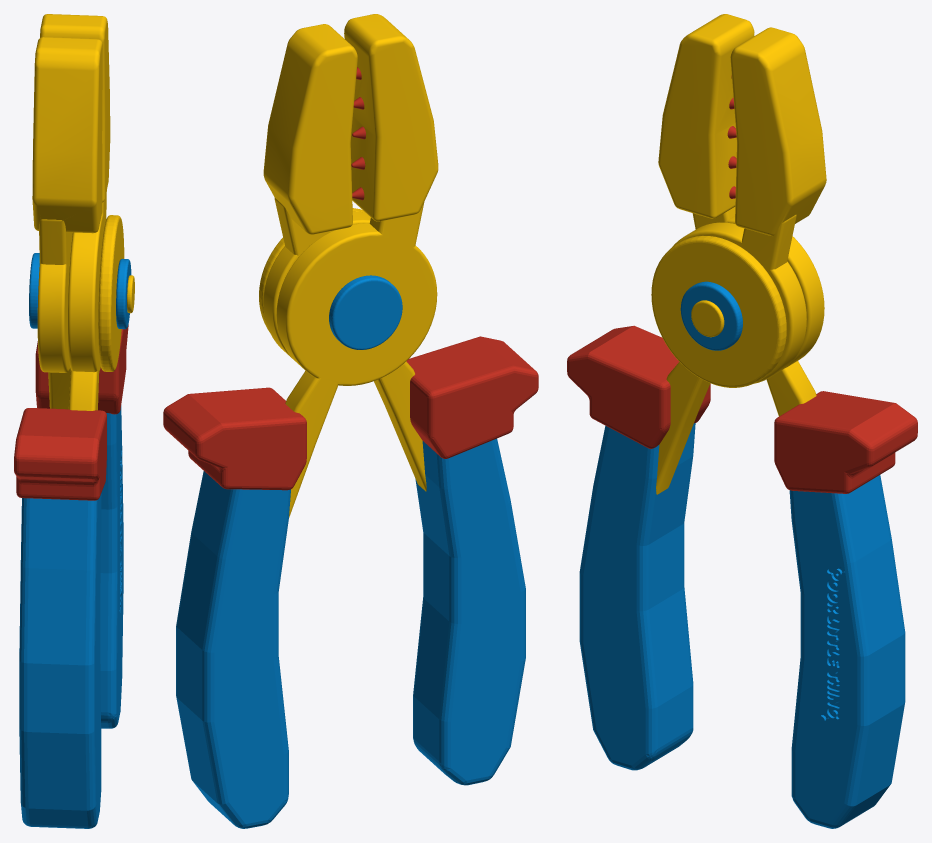
File: toy-pliers.glb
3 views of the same model, side by side, from view 1: azimuth 30°, elevation 25°; view 2: azimuth 150°, elevation 25°; view 3: azimuth 270°, elevation 25° (orthographic). The views are drawn at different scales.
Parts seen in each view (by area): view 1: display-part-006, display-part-001, display-part-004, display-part-005, display-part-003, display-part-009, display-part-002, display-part-010, display-part-008, display-part-011; view 2: display-part-001, display-part-003, display-part-006, display-part-004, display-part-002, display-part-005, display-part-008; view 3: display-part-003, display-part-006, display-part-004, display-part-001, display-part-009, display-part-002, display-part-005, display-part-010, display-part-011.
Part boxes in pixels (x1,y1,x2,y2): display-part-006: (19, 493, 101, 828); display-part-001: (32, 37, 102, 409); display-part-004: (40, 14, 110, 410); display-part-005: (14, 408, 106, 500); display-part-003: (100, 405, 123, 728); display-part-009: (98, 215, 124, 371); display-part-002: (35, 324, 128, 414); display-part-010: (116, 258, 131, 329); display-part-008: (29, 253, 39, 328); display-part-011: (127, 275, 134, 313); display-part-001: (276, 14, 438, 517); display-part-003: (176, 471, 290, 828); display-part-006: (413, 438, 525, 785); display-part-004: (263, 24, 426, 491); display-part-002: (163, 387, 306, 490); display-part-005: (406, 336, 538, 458); display-part-008: (329, 275, 402, 349); display-part-003: (789, 475, 905, 828); display-part-006: (579, 423, 695, 770); display-part-004: (656, 27, 826, 494); display-part-001: (658, 14, 824, 416); display-part-009: (651, 236, 786, 387); display-part-002: (774, 391, 917, 493); display-part-005: (567, 325, 710, 448); display-part-010: (680, 281, 742, 350); display-part-011: (691, 300, 724, 337).
Bounding box in the file's own units: 1.01 × 3 × 1.27.
